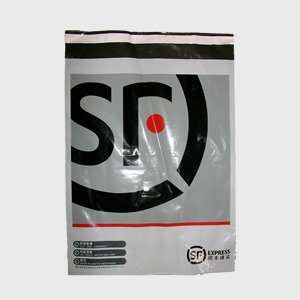Parcel: (65, 30, 235, 274)
